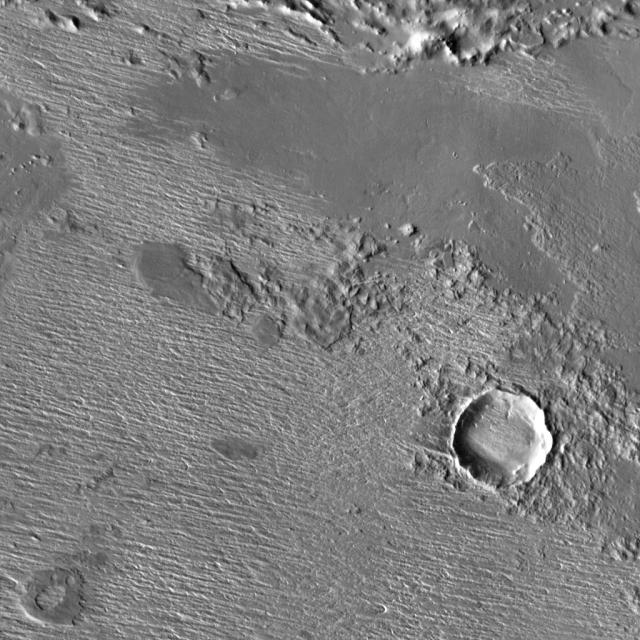crater: (461, 394, 559, 490)
